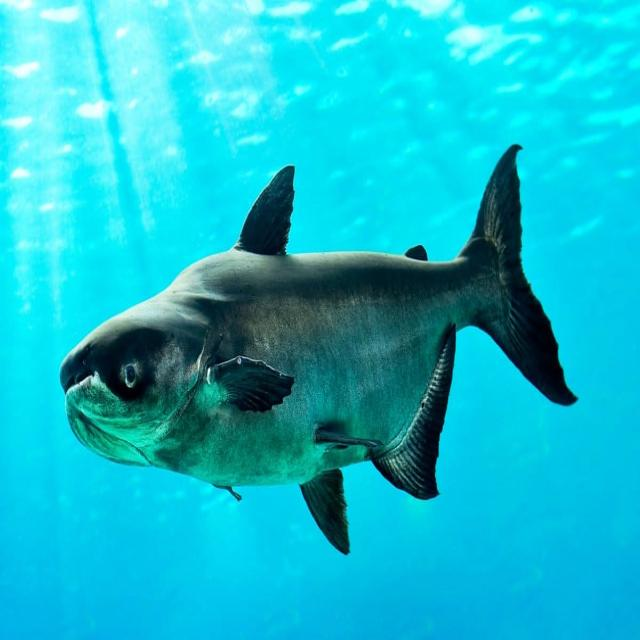Mekong_Giant_Catfish: (58, 141, 578, 556)
